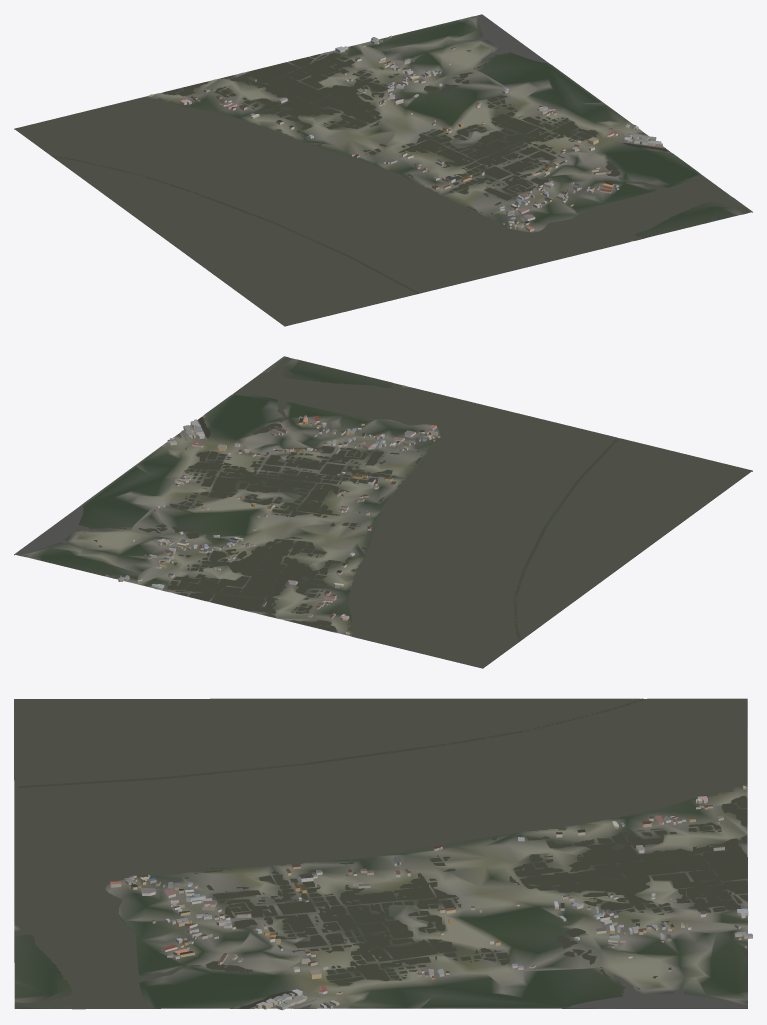
The picture shows the model from 3 angles, top to bottom: view 1: azimuth 30°, elevation 25°; view 2: azimuth 150°, elevation 25°; view 3: azimuth 270°, elevation 25°; orthographic projection. The views are drawn at different scales.
Parts seen in each view (by area): view 1: water, ground, buildings; view 2: water, ground, buildings; view 3: water, ground, buildings.
Part boxes in pixels (x1,y1,x2,y2): water: [15, 14, 745, 325]; ground: [14, 15, 752, 326]; buildings: [149, 35, 662, 231]; water: [15, 358, 751, 668]; ground: [14, 356, 752, 668]; buildings: [98, 415, 440, 634]; water: [14, 698, 747, 1008]; ground: [14, 698, 747, 1009]; buildings: [110, 785, 752, 1010].
Size of the model in its own units: 1409 by 12.92 by 1411.
